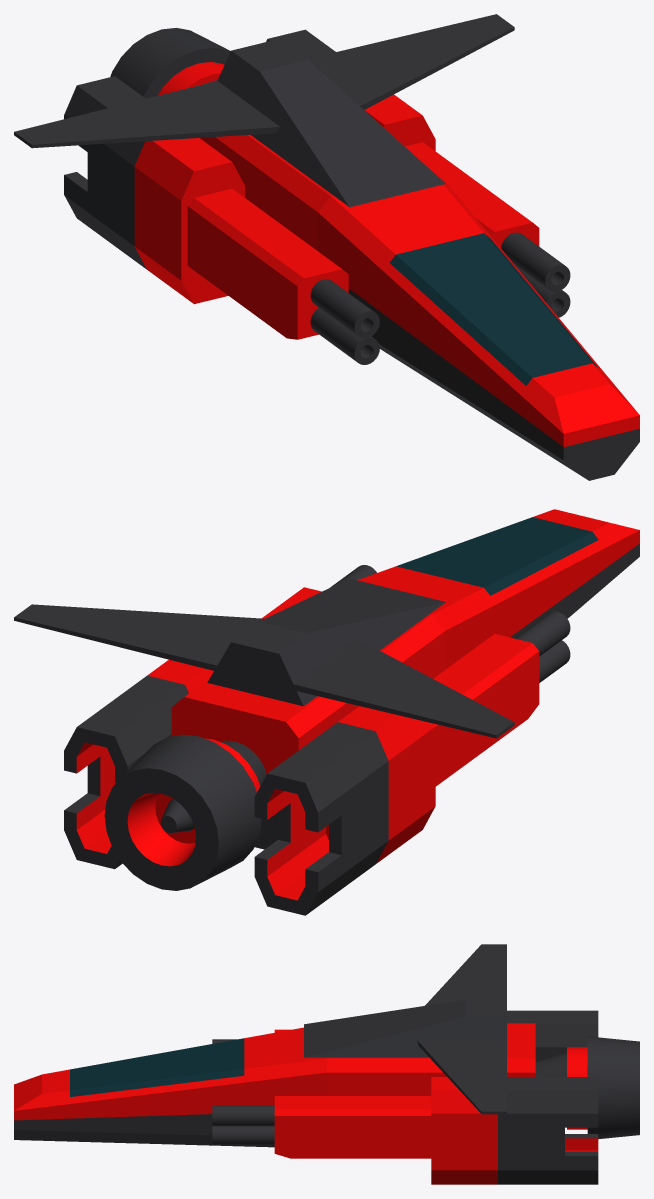
The model's file is gizmo_ship 1.fbx.
3 views of the same model, one above another, from view 1: azimuth 30°, elevation 25°; view 2: azimuth 150°, elevation 25°; view 3: azimuth 270°, elevation 25° (orthographic). The views are drawn at different scales.
Parts seen in each view (by area): view 1: mergedBlocks; view 2: mergedBlocks; view 3: mergedBlocks.
Part boxes in pixels (x1,y1,x2,y2): mergedBlocks: (14,14,639,480); mergedBlocks: (14,509,639,915); mergedBlocks: (14,944,639,1184).
Bounding box in the file's own units: 38 × 14.5 × 60.
